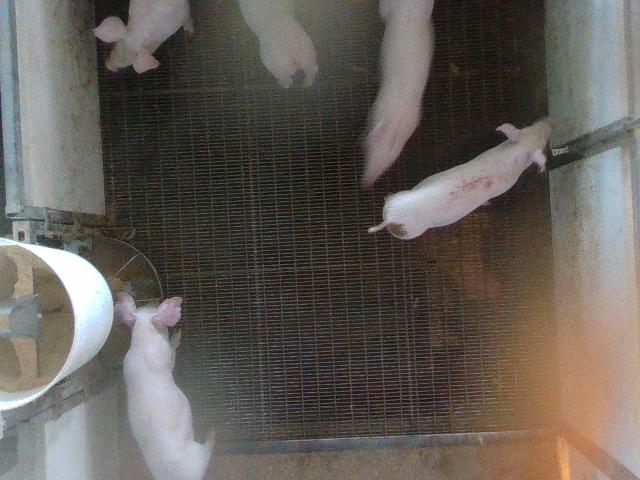pig-5: (369, 118, 552, 239)
